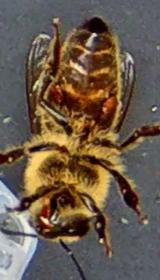varroa_mite: (42, 74, 69, 113), (98, 83, 124, 122)
